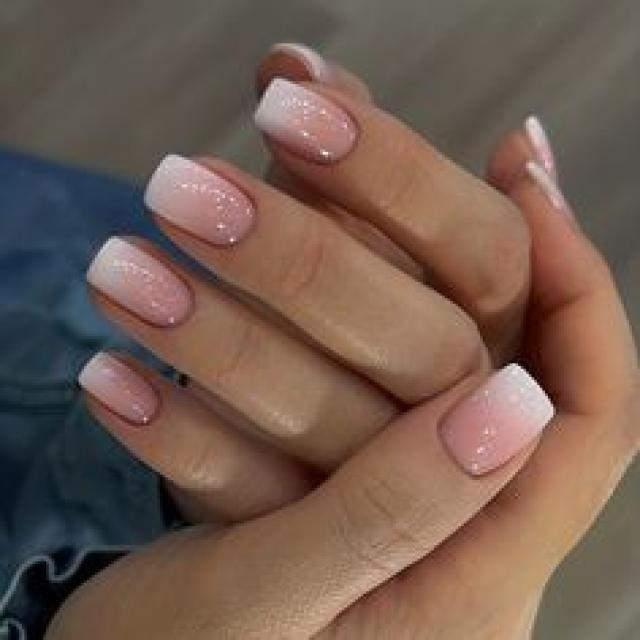Fingernail: (439, 362, 556, 477), (146, 156, 256, 244), (253, 77, 361, 163), (87, 238, 192, 324), (80, 351, 160, 426)
